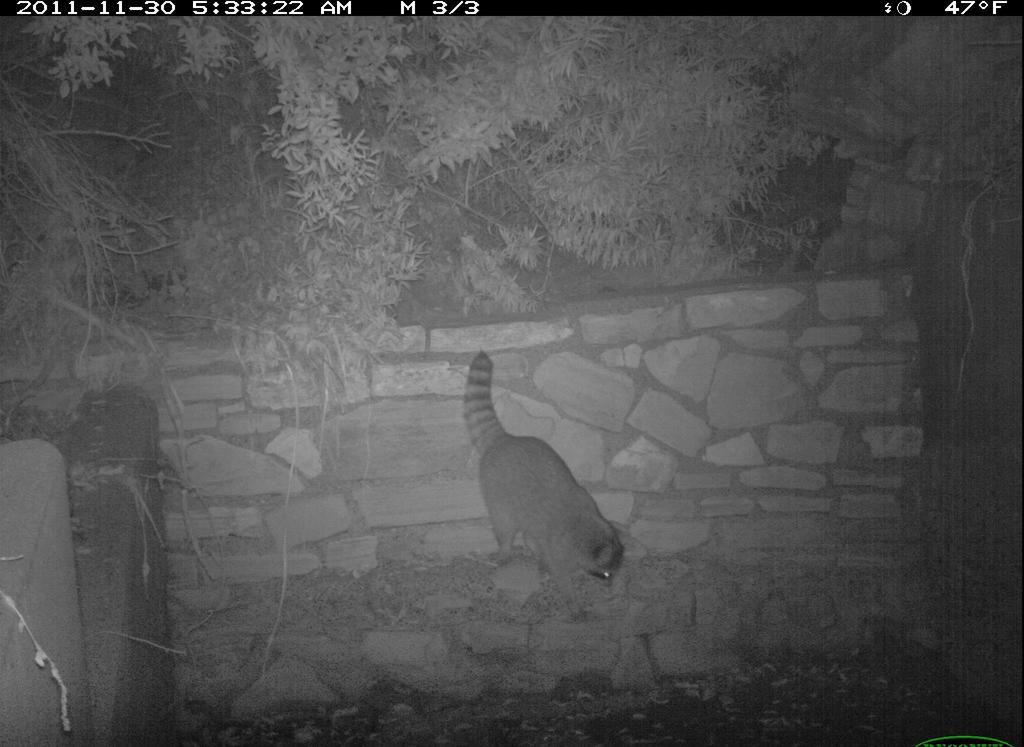raccoon: (447, 332, 649, 605)
